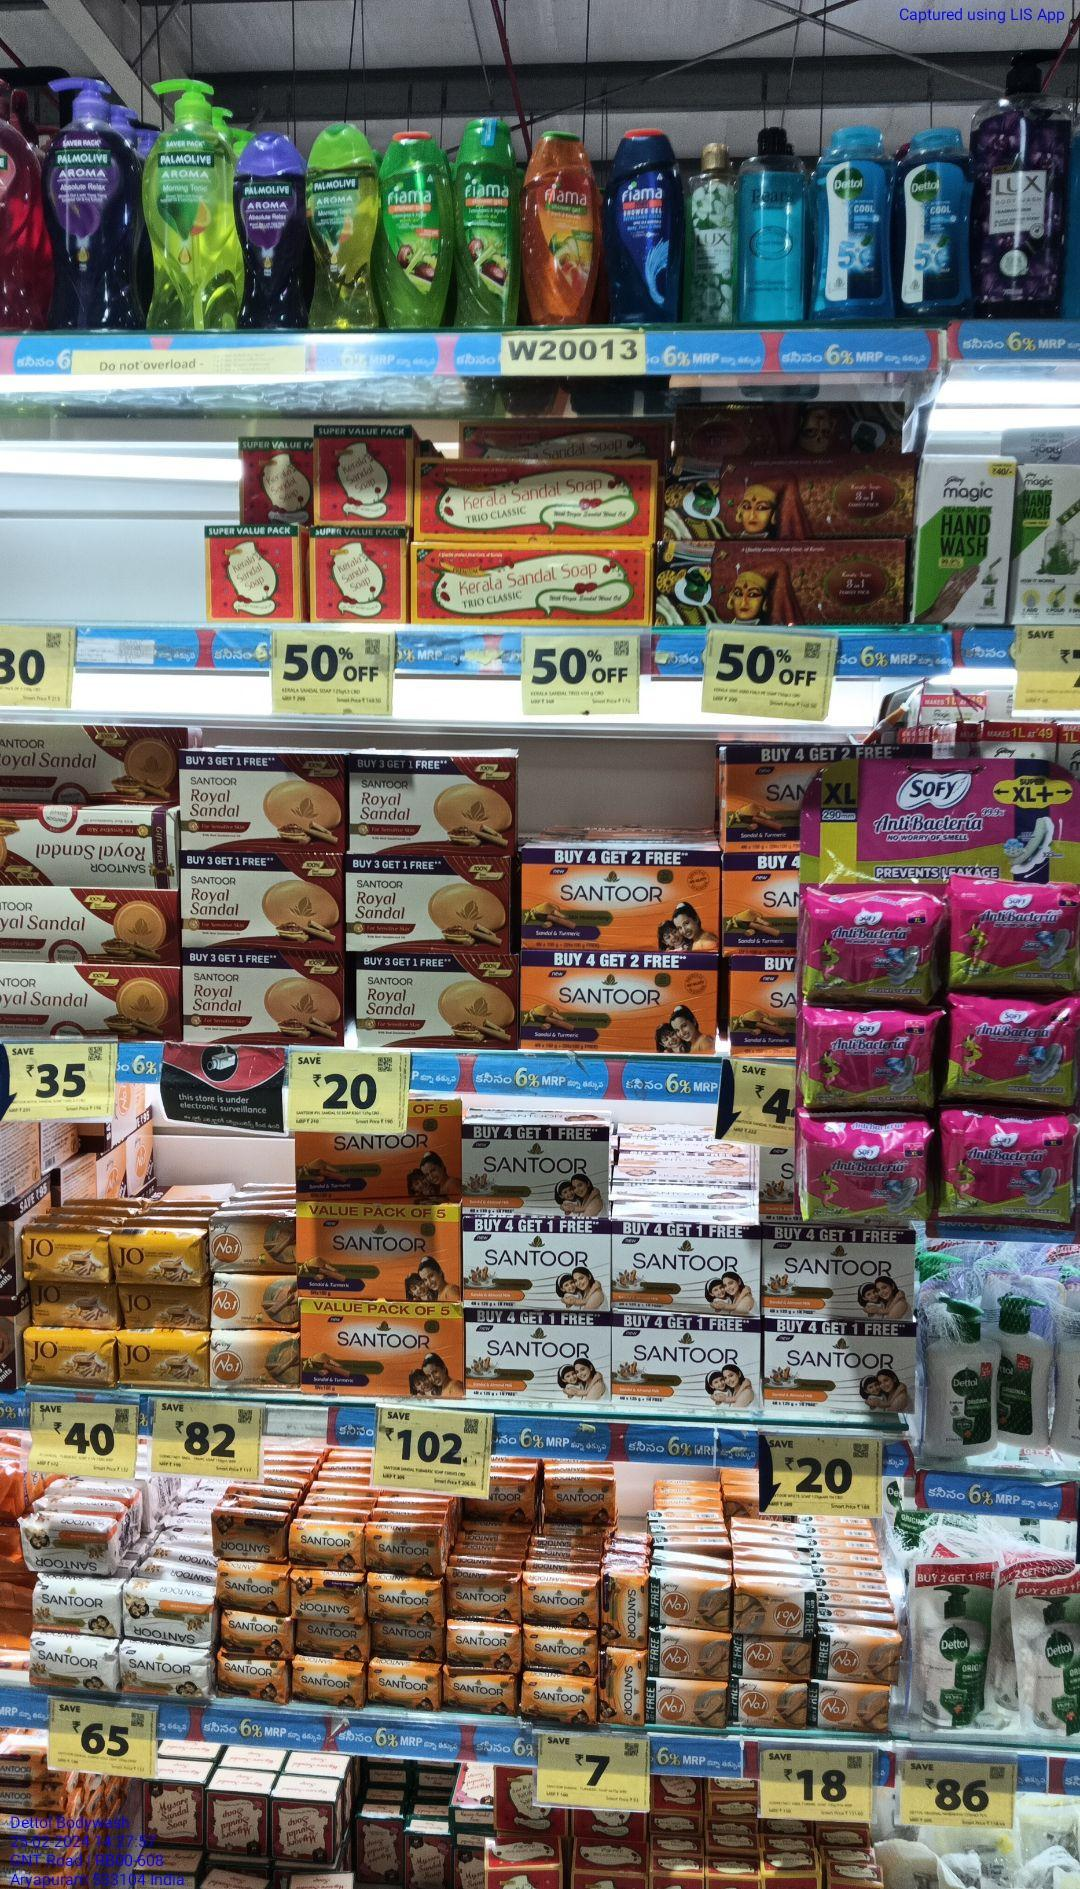Dettol_Bodywash_Cool: (819, 126, 897, 322), (902, 127, 976, 317)
Fiama_Shower_Gel_Lemongrass_and_Jojoba_250ML: (378, 130, 449, 331)
Fiama_Shower_Gel_Peach_and_Avocado_250ML: (528, 130, 597, 327)
Lux_Body_Wash_Skin_Detox_Freesia_Scent_and_Alove_Vera_245ML: (689, 144, 739, 320)
Palmolive_Aroma_Relax_250ML: (232, 136, 310, 326)
Pears_Pure_Glycerin_and_Mint_Extracts_Body_Wash_250ML: (744, 127, 805, 319)
